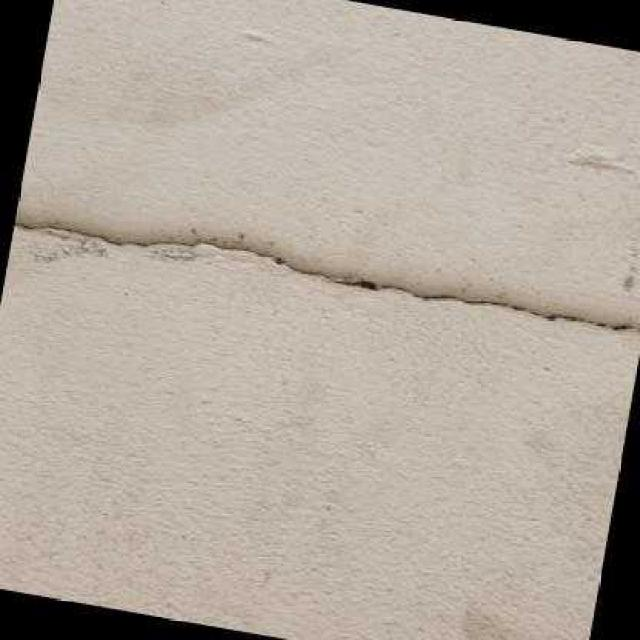D00: (11, 219, 640, 333)
